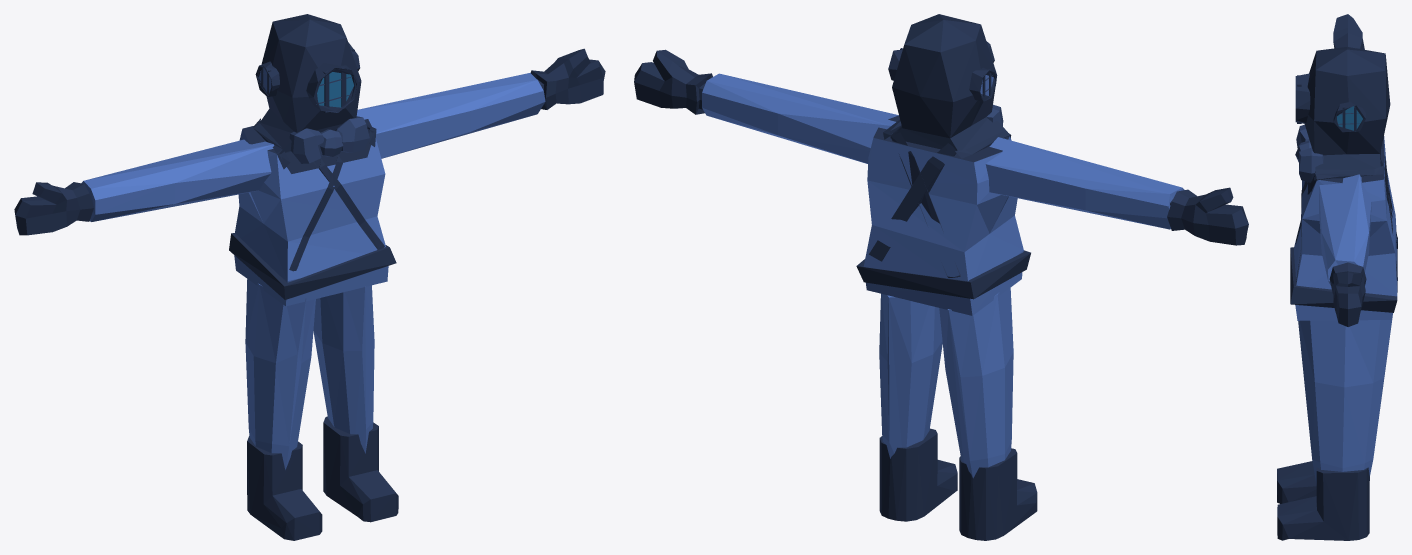
File: blueguy_Collection.fbx
3 renders of one model, left to right at view 1: azimuth 30°, elevation 25°; view 2: azimuth 150°, elevation 25°; view 3: azimuth 270°, elevation 25°, orthographic. The views are drawn at different scales.
Parts seen in each view (by area): view 1: Cube.003, Cube.002, Cube, Cube.001; view 2: Cube.003, Cube.002, Cube; view 3: Cube.003, Cube, Cube.001, Cube.002.
Boxes of the visible parts, x1=… form: Cube.003: x1=81, y1=14, x2=545, y2=540; Cube.002: x1=14, y1=182, x2=93, y2=235; Cube: x1=530, y1=48, x2=605, y2=109; Cube.001: x1=289, y1=116, x2=369, y2=163; Cube.003: x1=702, y1=14, x2=1184, y2=540; Cube.002: x1=1167, y1=187, x2=1248, y2=245; Cube: x1=634, y1=49, x2=712, y2=114; Cube.003: x1=1277, y1=47, x2=1397, y2=540; Cube: x1=1329, y1=262, x2=1366, y2=326; Cube.001: x1=1295, y1=124, x2=1323, y2=182; Cube.002: x1=1333, y1=14, x2=1364, y2=49.
Size of the model in its own units: 1302 by 1017 by 239.
